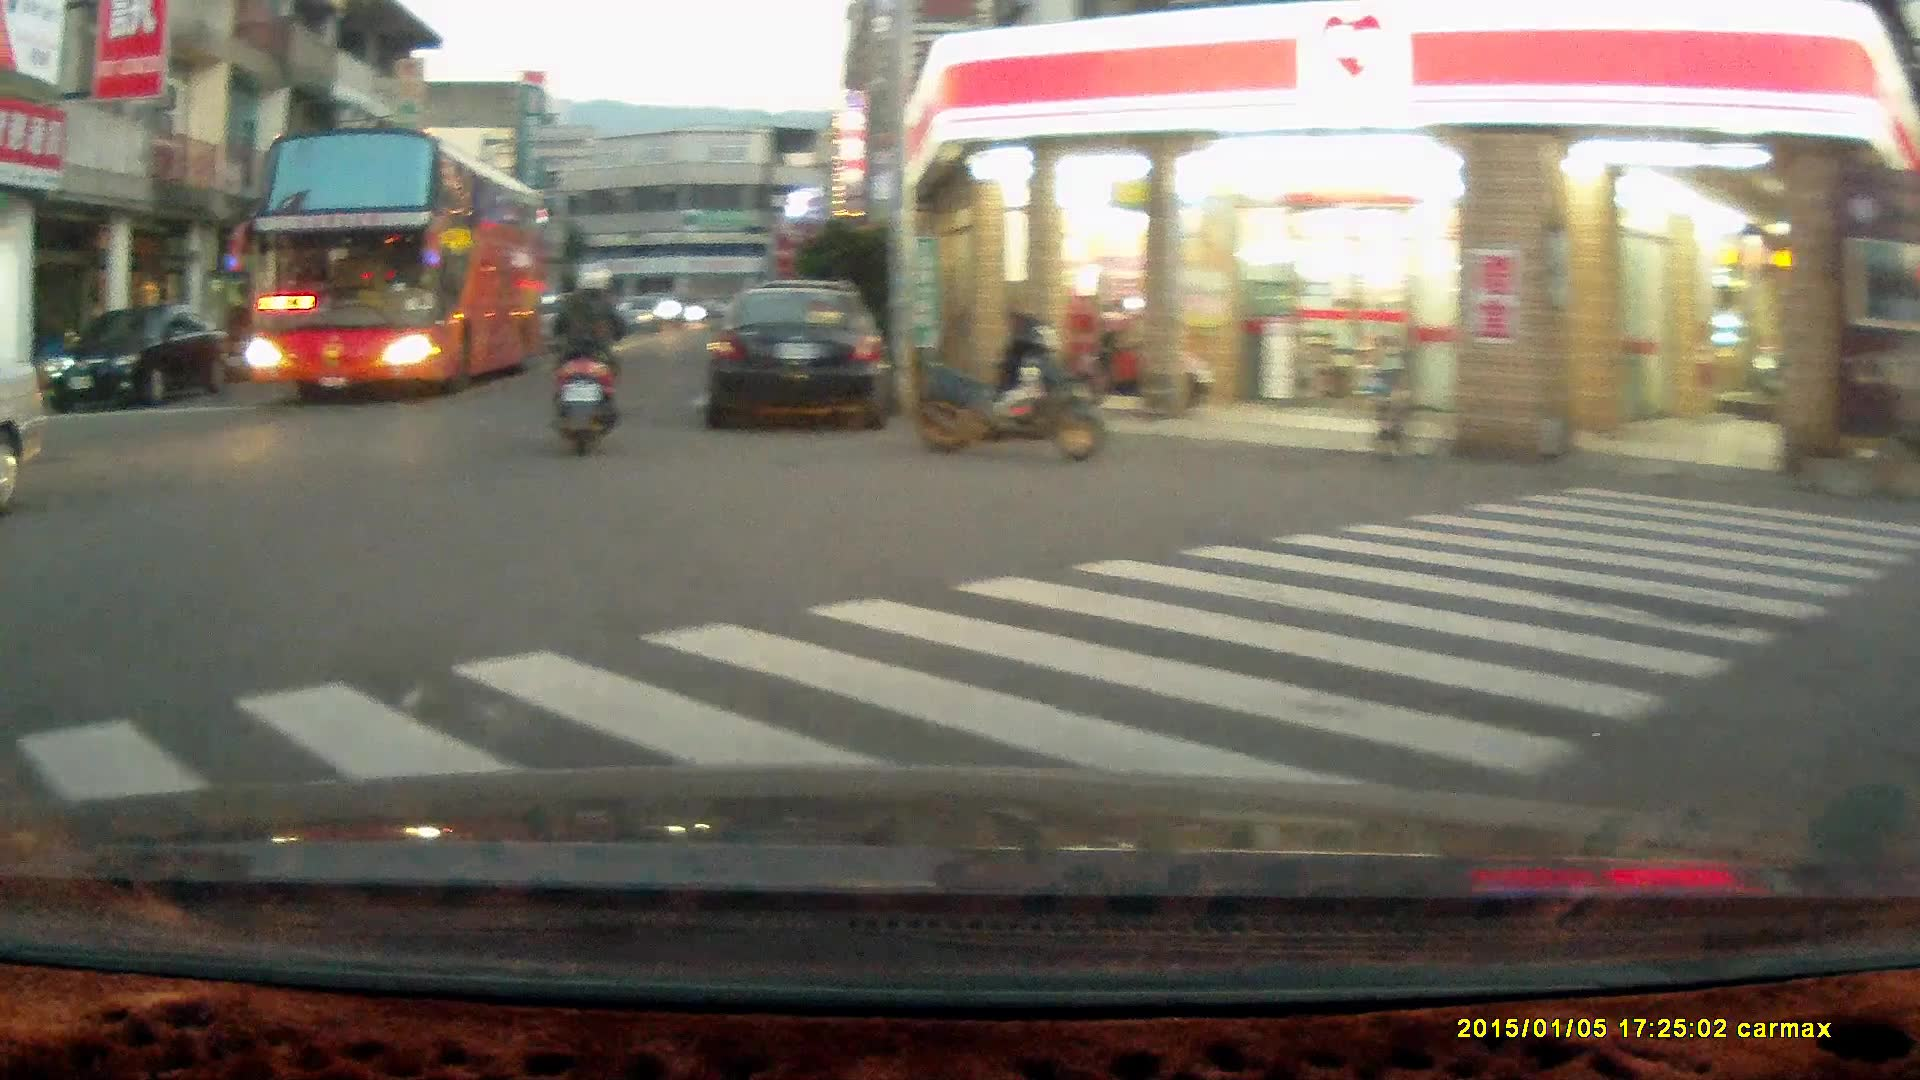rider: (538, 262, 628, 461)
vehicle: (245, 126, 556, 404), (702, 279, 895, 429), (45, 305, 237, 413)
